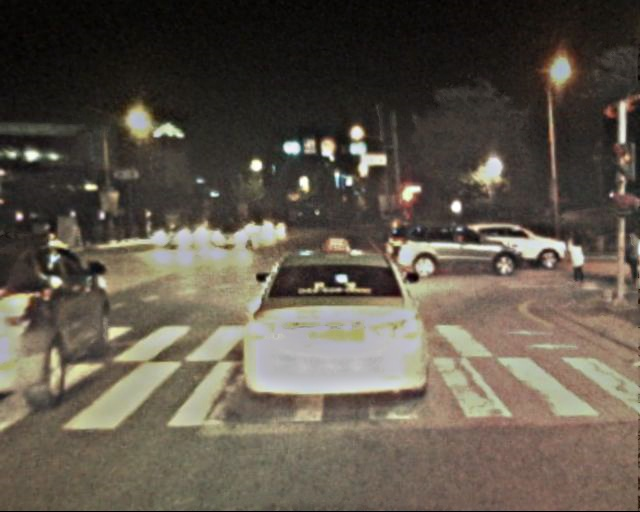person: (565, 228, 591, 288), (619, 229, 640, 288)
